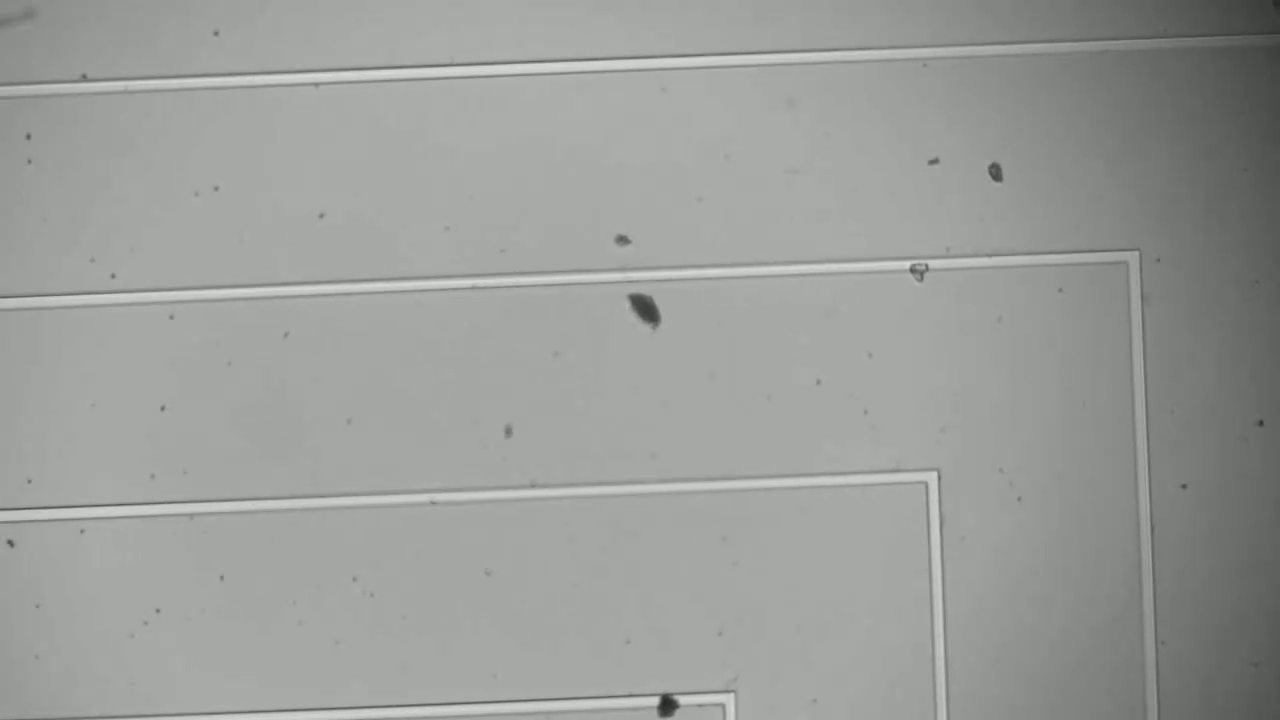stains_enbedded: (647, 688, 689, 720), (903, 252, 939, 283)
